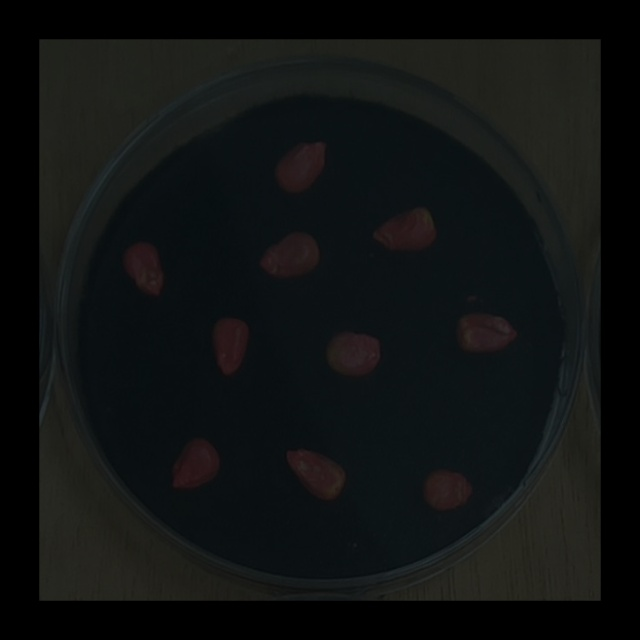Zea mays: (279, 441, 353, 506), (364, 198, 442, 258), (267, 133, 334, 200), (252, 224, 325, 284), (449, 305, 523, 359), (165, 430, 226, 495), (114, 234, 169, 304), (320, 324, 387, 381), (205, 310, 255, 381), (417, 461, 479, 517)
